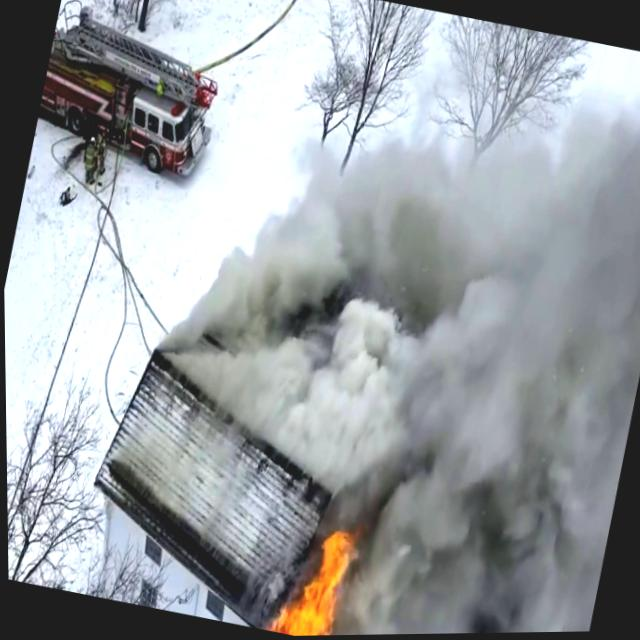fire: (259, 524, 360, 637)
smoke: (138, 0, 640, 488)
